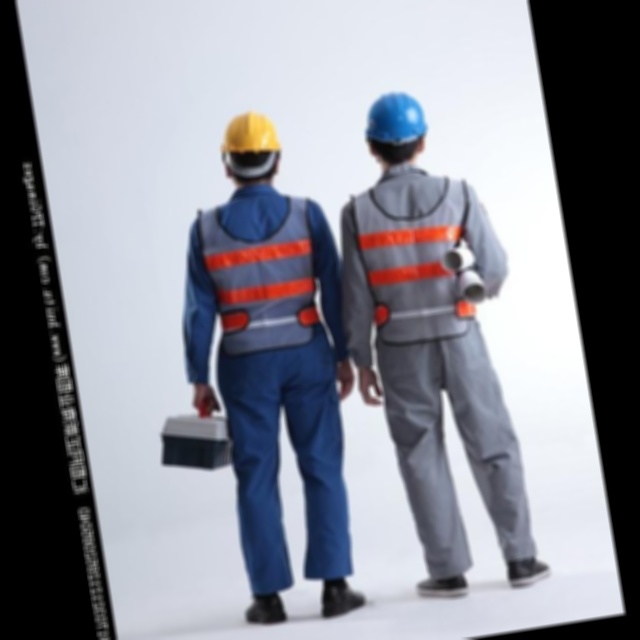Con_Casco: (213, 107, 288, 187), (358, 87, 432, 168)
Con_Chaleco: (335, 167, 491, 356), (186, 189, 339, 366)
